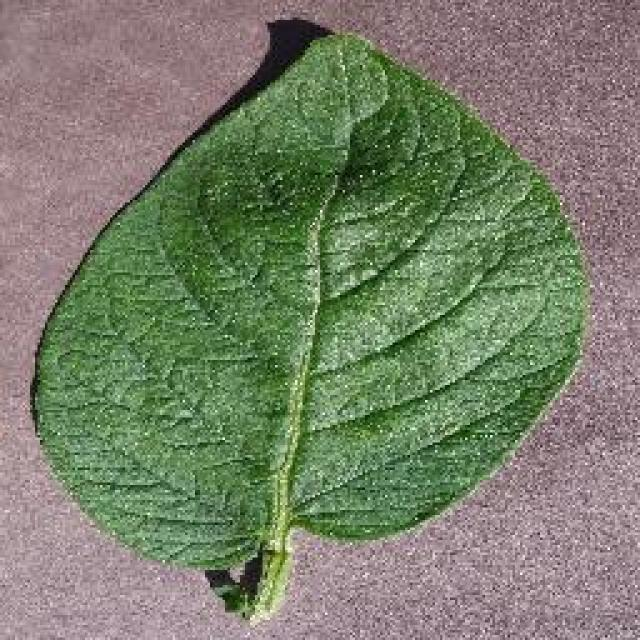Potato: (28, 17, 592, 625)
